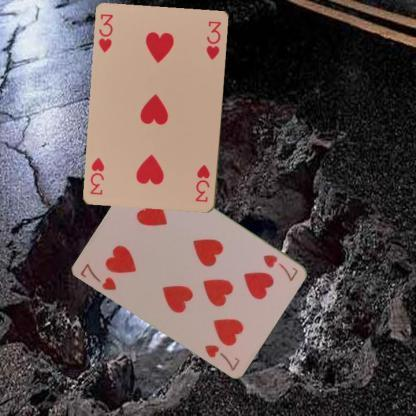3h: (192, 162, 212, 204), (96, 12, 115, 54)
7h: (78, 260, 118, 292), (260, 252, 300, 282)
